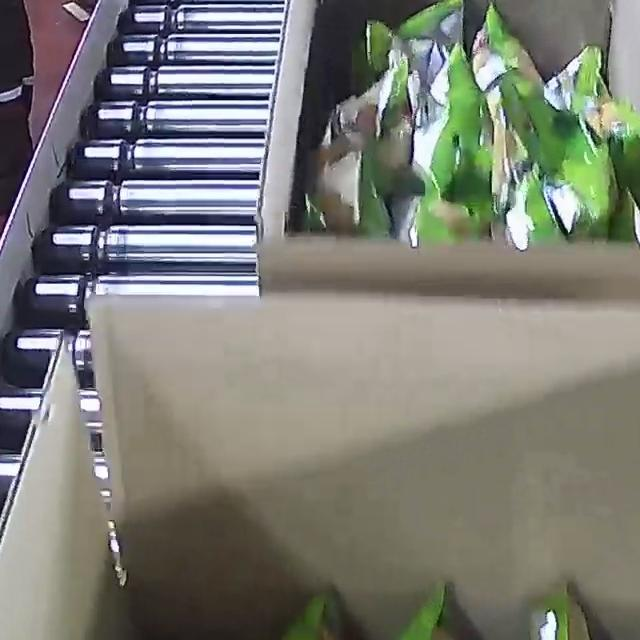yogurt: (305, 0, 640, 251), (127, 500, 640, 640)
